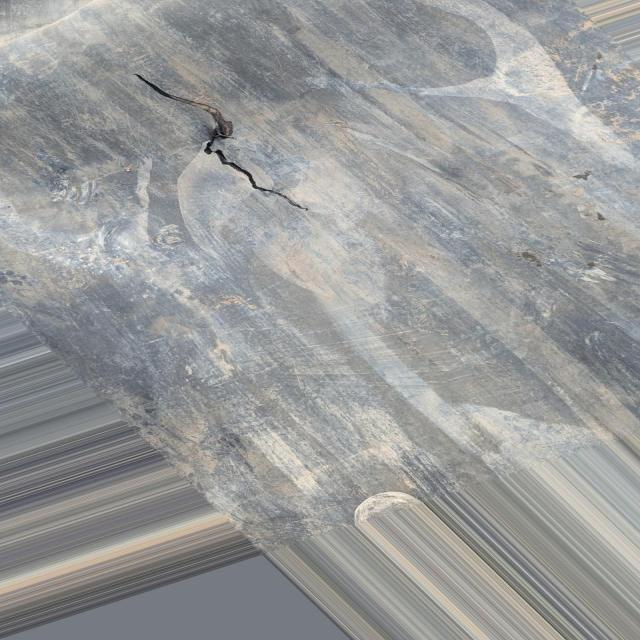Tear: (130, 66, 312, 212)
